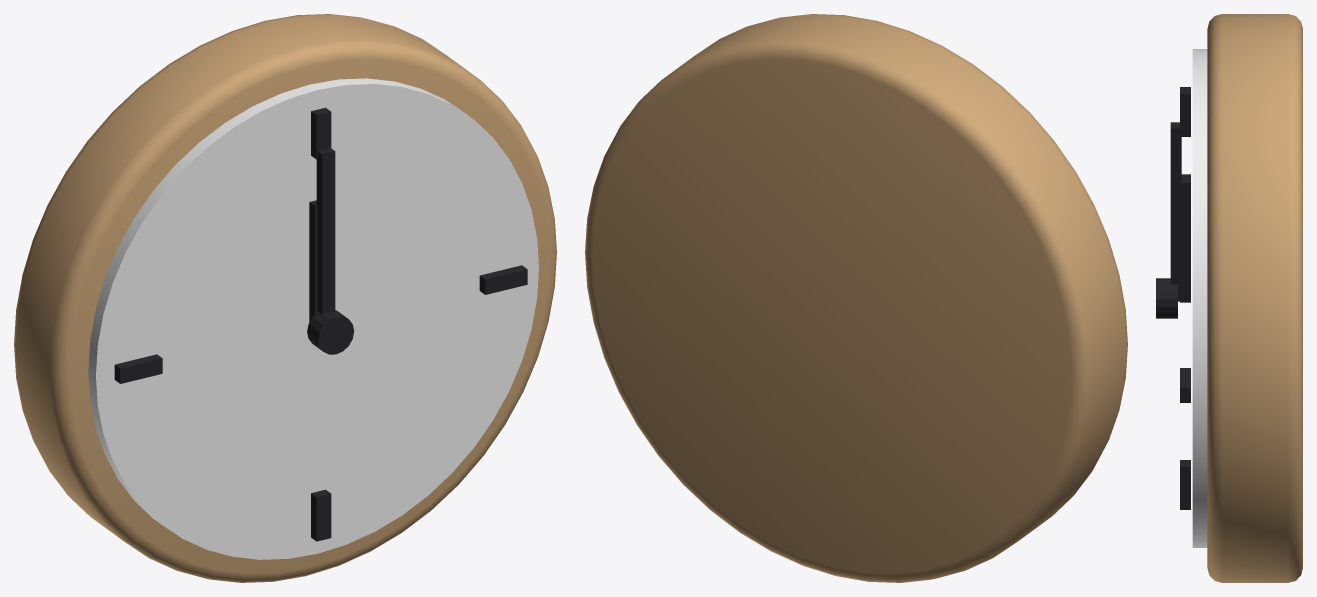
File: wall_clock.glb
3 views of the same model, side by side, from view 1: azimuth 30°, elevation 25°; view 2: azimuth 150°, elevation 25°; view 3: azimuth 270°, elevation 25° (orthographic). The views are drawn at different scales.
Visible parts, largest first — view 1: ClockFace, ClockCase, ClockMarks, ClockMinuteHand, ClockHourHand; view 2: ClockCase; view 3: ClockCase, ClockFace, ClockMarks, ClockMinuteHand, ClockHourHand.
Boxes of the visible parts, bbox=[...] form: ClockFace: bbox=[88, 78, 538, 559]; ClockCase: bbox=[14, 14, 556, 582]; ClockMarks: bbox=[114, 107, 527, 541]; ClockMinuteHand: bbox=[316, 148, 335, 314]; ClockHourHand: bbox=[309, 200, 317, 321]; ClockCase: bbox=[585, 14, 1127, 582]; ClockCase: bbox=[1207, 14, 1302, 582]; ClockFace: bbox=[1192, 49, 1207, 547]; ClockMarks: bbox=[1156, 87, 1190, 509]; ClockMinuteHand: bbox=[1170, 122, 1181, 301]; ClockHourHand: bbox=[1180, 174, 1190, 302].
Size of the model in its own units: 0.31 by 0.31 by 0.08.
